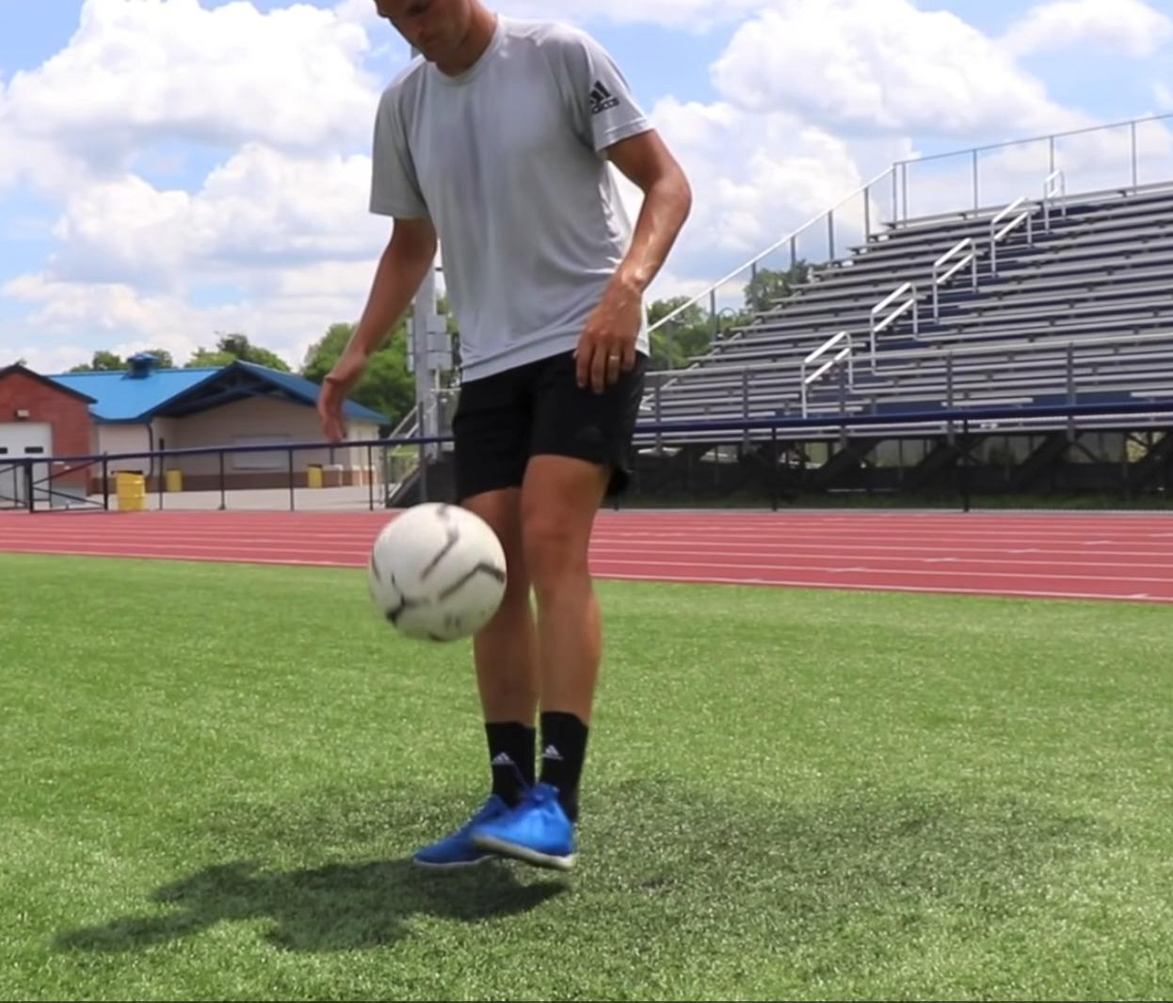ball: (366, 501, 507, 643)
foot: (480, 781, 577, 867), (411, 796, 527, 867)
person: (319, 0, 694, 881)
